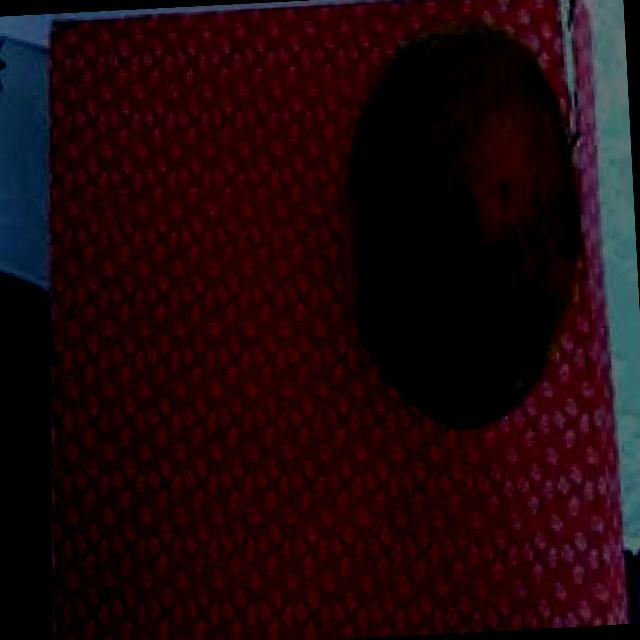Orange: (330, 12, 594, 433)
